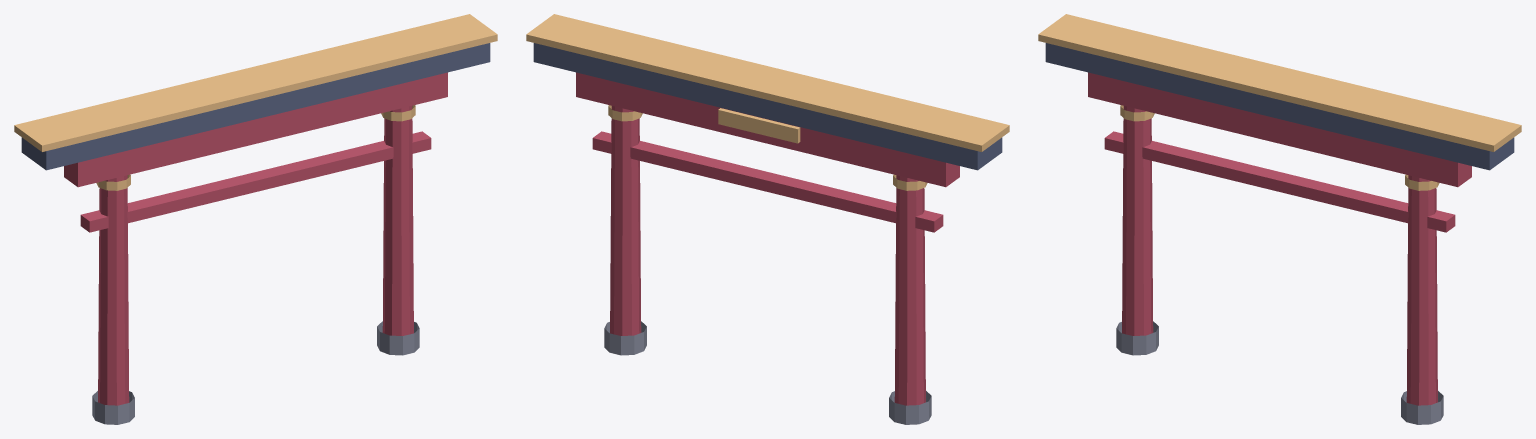
File: dojo_ceremonial_torii.gltf
The picture shows the model from 3 angles, left to right: view 1: azimuth 30°, elevation 25°; view 2: azimuth 150°, elevation 25°; view 3: azimuth 330°, elevation 25°; orthographic projection.
Parts seen in each view (by area): view 1: dojo_ceremonial_torii; view 2: dojo_ceremonial_torii; view 3: dojo_ceremonial_torii.
Part boxes in pixels (<box>): dojo_ceremonial_torii: <box>14,14,497,424</box>; dojo_ceremonial_torii: <box>526,14,1009,424</box>; dojo_ceremonial_torii: <box>1038,14,1521,424</box>.
Bounding box in the file's own units: 16 × 10.12 × 1.7.
